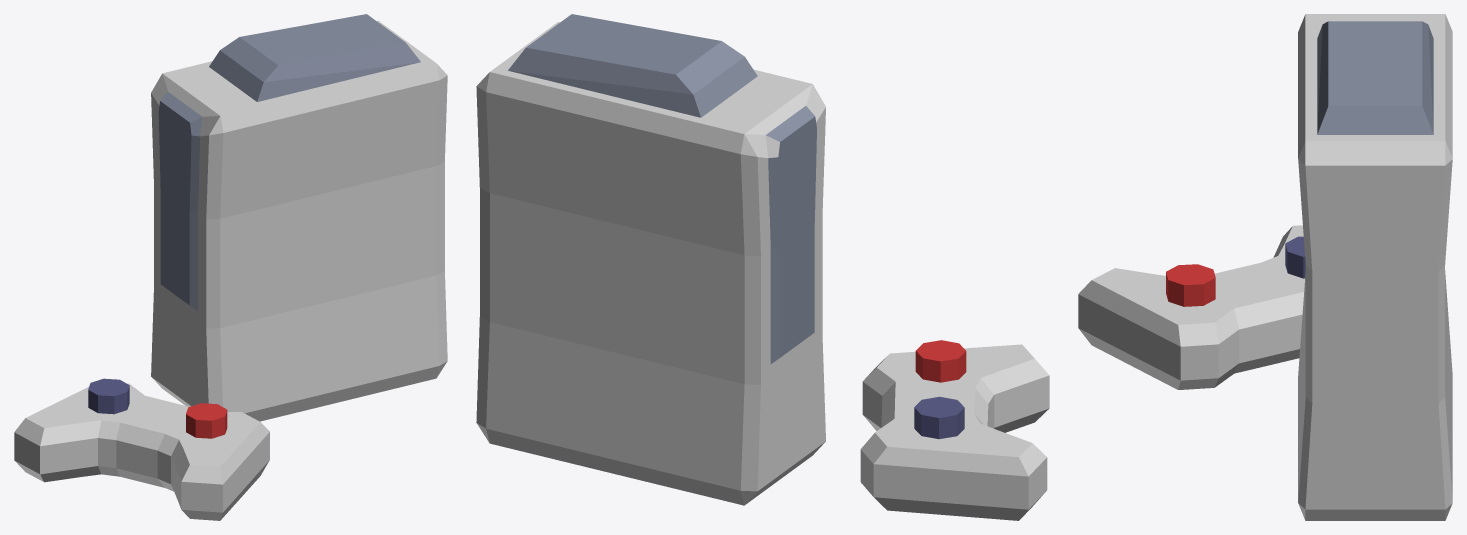
File: SM_pristavka_01.fbx
3 renders of one model, left to right at view 1: azimuth 30°, elevation 25°; view 2: azimuth 150°, elevation 25°; view 3: azimuth 270°, elevation 25°, orthographic. The views are drawn at different scales.
Parts seen in each view (by area): view 1: pristavka, pristavka_buttons; view 2: pristavka, pristavka_buttons; view 3: pristavka, pristavka_buttons.
Boxes of the visible parts, bbox=[...] form: pristavka: bbox=[14, 14, 447, 520]; pristavka_buttons: bbox=[88, 378, 227, 438]; pristavka: bbox=[476, 14, 1049, 520]; pristavka_buttons: bbox=[914, 340, 966, 439]; pristavka: bbox=[1078, 14, 1452, 520]; pristavka_buttons: bbox=[1166, 236, 1305, 306].
Bounding box in the file's own units: 111 × 86.88 × 70.89.
